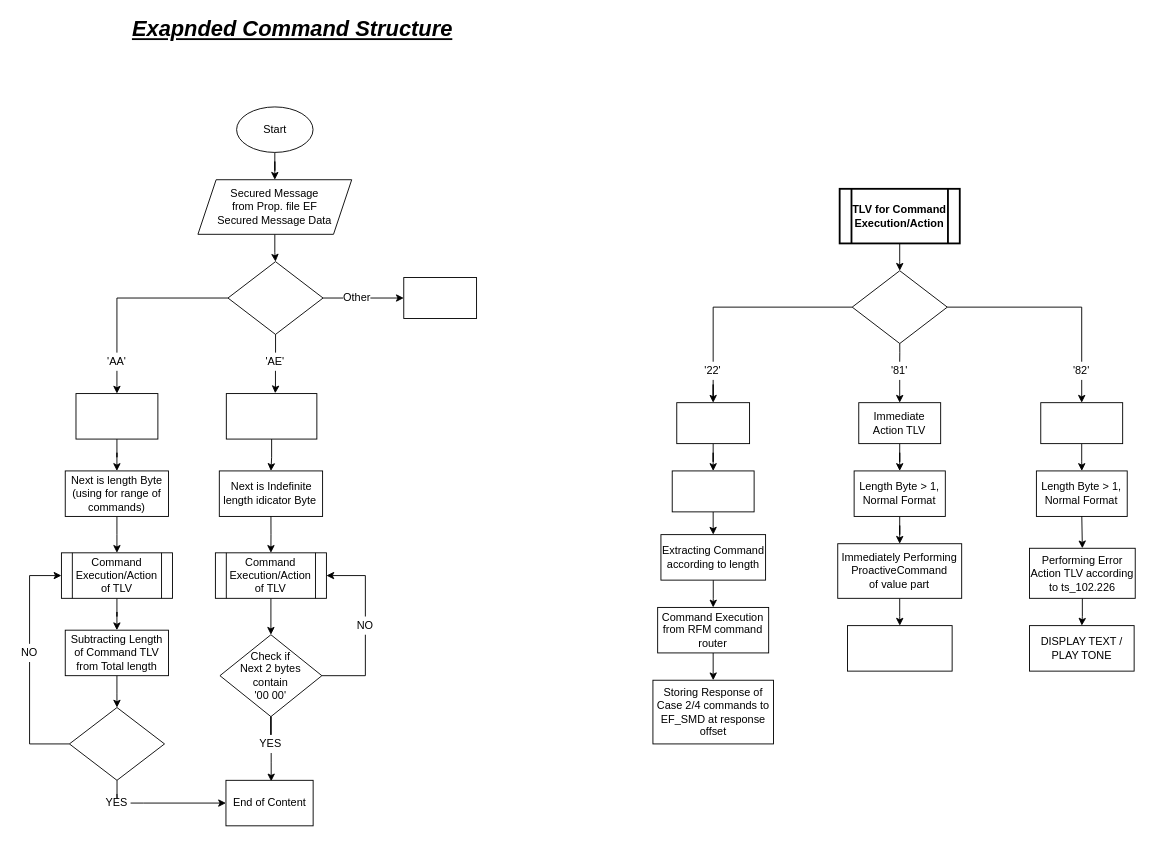
Image size: 1151x842. Some labels were removed from this diagram. The centre of each missing label's shape, as x and y in pixels:
"C-APDU TLV" goes at pixel 713 423.
"Check for Command Tag" goes at pixel 899 307.
"Check Tag in First byte" goes at pixel 275 297.
"Compact APDU Format" goes at pixel 440 297.
"DISPLAY TEXT / PLAY TONE / REFRESH" goes at pixel 899 648.
"Error Action TLV" goes at pixel 1081 423.
"Expanded APDU Format (Definite length)" goes at pixel 116 416.
"Expanded APDU Format (Indefinite length)" goes at pixel 271 416.
"If, Length>Total Length" goes at pixel 117 743.
"Taking length byte after Tag" goes at pixel 712 491.
